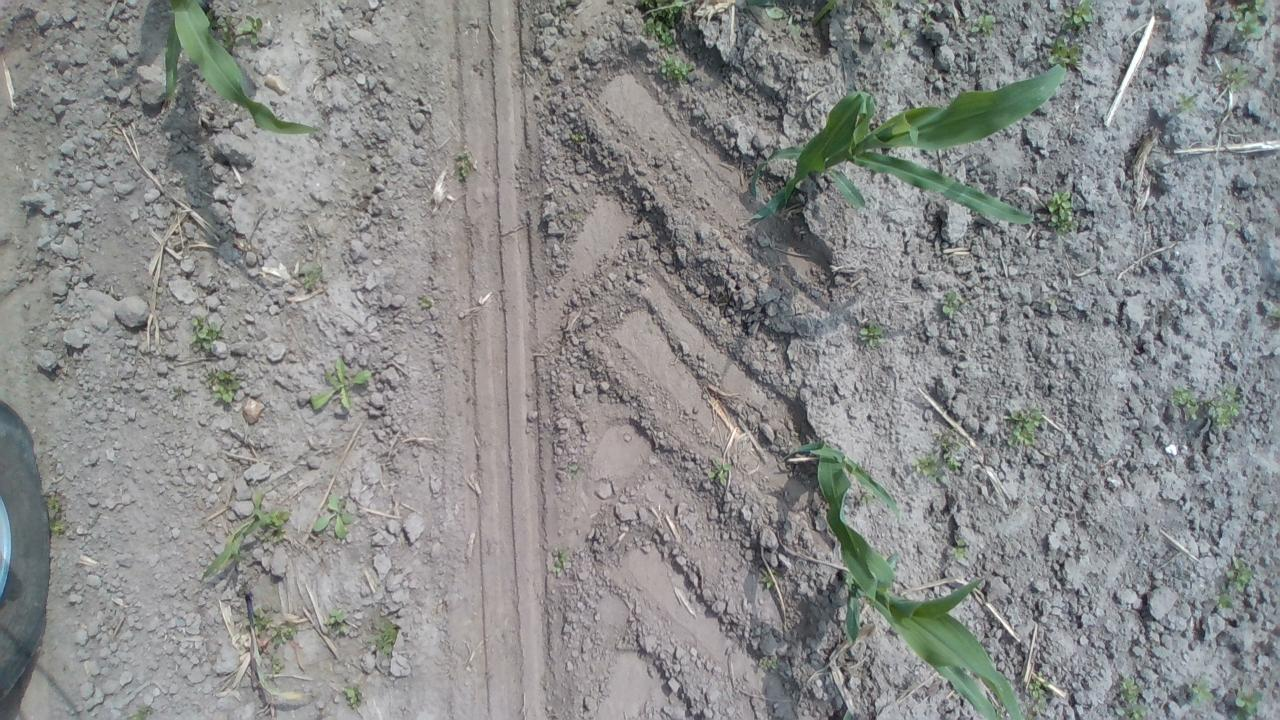Maize: (738, 58, 1068, 230), (834, 549, 1024, 720), (158, 0, 322, 142), (774, 432, 906, 606), (202, 484, 275, 582)
Weeds: (309, 356, 374, 412), (1171, 384, 1242, 429), (208, 8, 269, 49), (639, 0, 688, 50), (312, 494, 356, 540), (250, 608, 298, 647), (1004, 404, 1046, 447), (1046, 188, 1080, 237), (188, 314, 225, 354), (1231, 0, 1268, 40), (934, 426, 965, 471), (205, 368, 241, 404), (366, 618, 398, 658), (1044, 36, 1084, 68), (656, 55, 694, 86), (1064, 0, 1098, 34), (1232, 686, 1264, 720), (45, 490, 68, 536), (1227, 556, 1254, 592), (910, 451, 941, 482), (856, 319, 886, 350), (1029, 672, 1051, 712), (298, 263, 326, 294), (454, 148, 478, 182), (1222, 62, 1251, 90), (321, 608, 350, 636), (706, 456, 732, 487), (748, 0, 788, 19), (266, 510, 288, 544), (940, 290, 966, 318), (809, 0, 842, 22), (1118, 673, 1140, 704), (969, 14, 996, 38), (1190, 681, 1216, 704), (1115, 704, 1149, 720), (341, 684, 363, 708), (948, 534, 968, 560), (550, 546, 568, 574), (856, 482, 878, 504), (867, 0, 897, 16), (919, 9, 938, 34), (1176, 92, 1196, 114), (756, 654, 780, 672), (1214, 591, 1234, 610), (759, 568, 776, 590), (878, 35, 896, 51), (127, 708, 152, 719), (417, 294, 434, 310), (270, 657, 284, 676), (570, 461, 584, 476), (568, 131, 584, 144), (789, 25, 802, 40), (899, 30, 912, 42)
